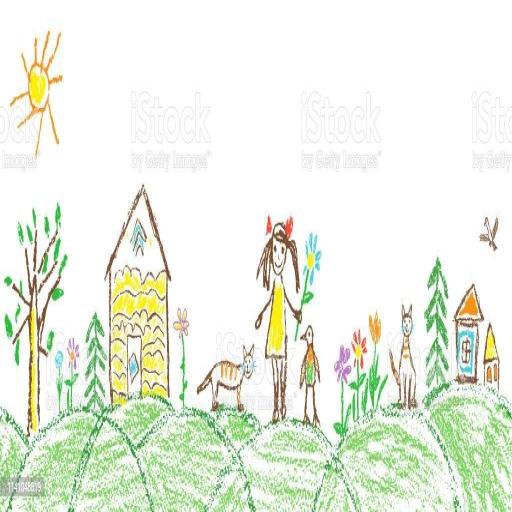person: (255, 212, 301, 427)
